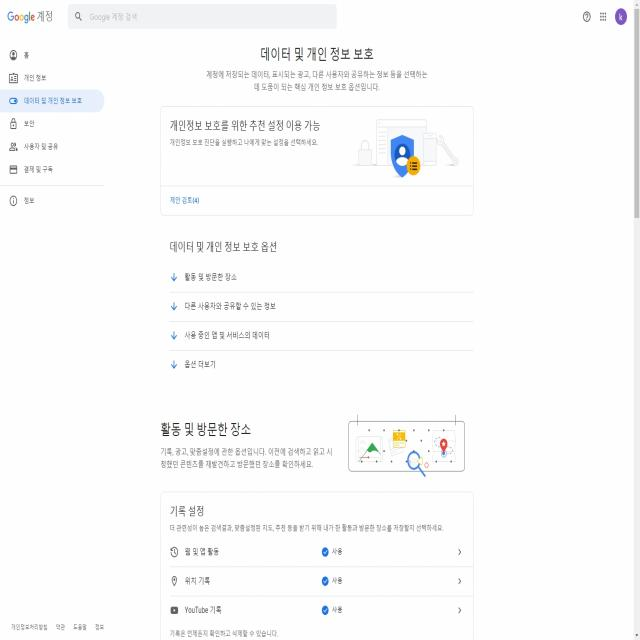menu-bar: (577, 2, 631, 30)
search: (66, 1, 339, 32)
